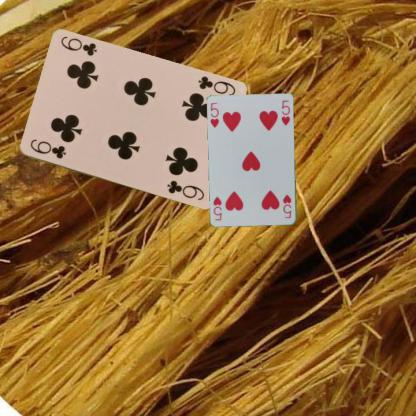5h: (208, 100, 220, 129), (281, 192, 292, 219)
6c: (195, 73, 236, 98), (27, 136, 67, 160)
